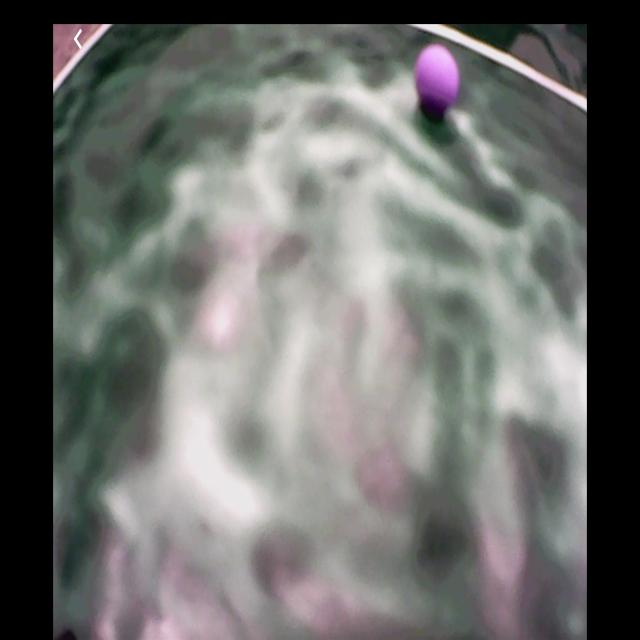ball: (416, 46, 461, 117)
